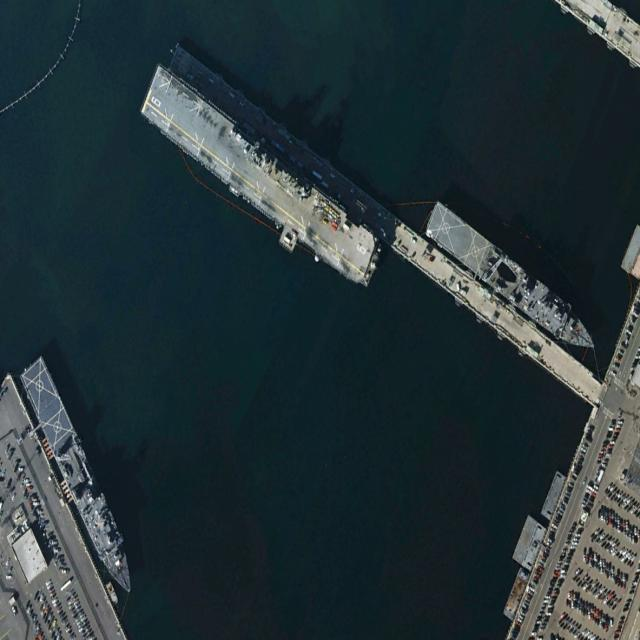Landing: (133, 62, 386, 308), (18, 354, 142, 604), (424, 197, 603, 361)
